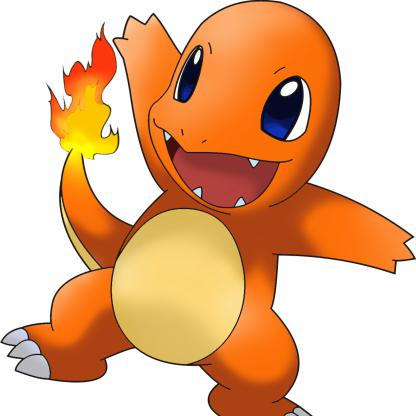Charmander: (12, 4, 416, 416)
